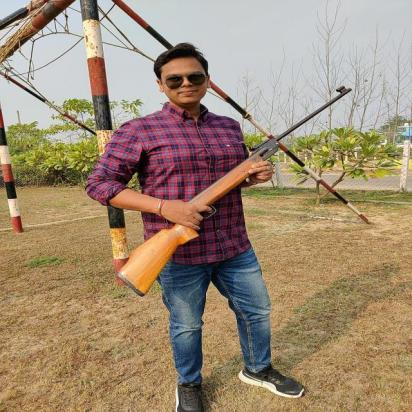Gun: (114, 84, 354, 299)
